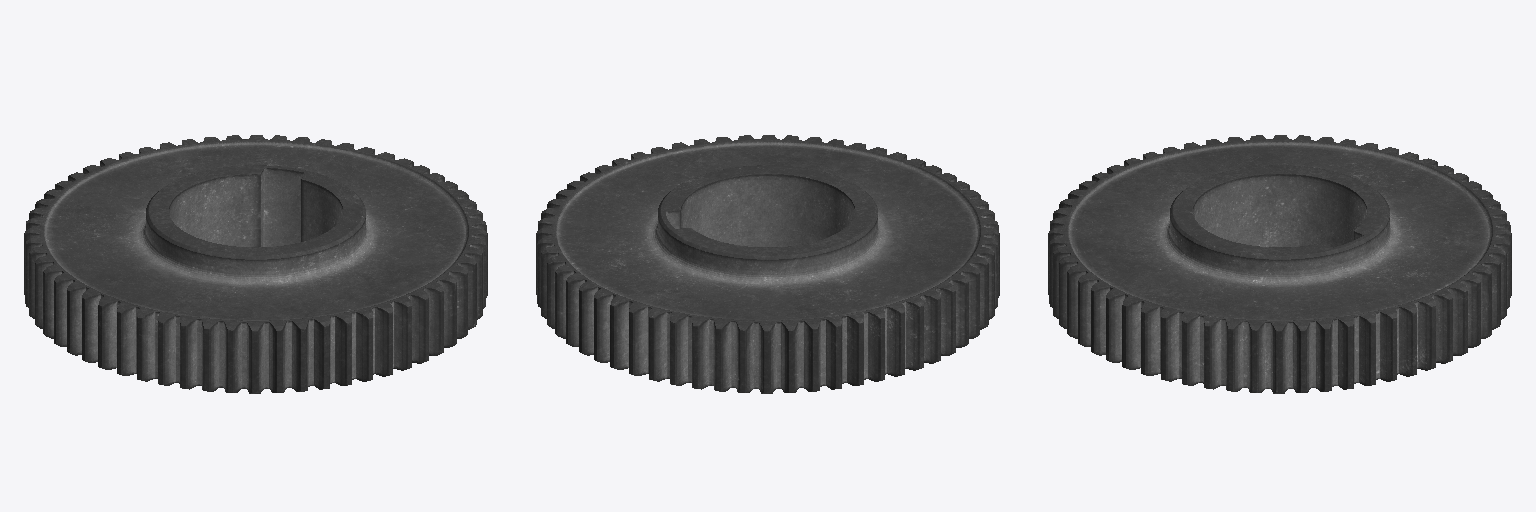
The picture shows the model from 3 angles: view 1: azimuth 30°, elevation 25°; view 2: azimuth 150°, elevation 25°; view 3: azimuth 270°, elevation 25°; orthographic projection.
Parts seen in each view (by area): view 1: Gear2; view 2: Gear2; view 3: Gear2.
Boxes of the visible parts, <box> form: Gear2: <box>24,135,487,393</box>; Gear2: <box>536,135,999,393</box>; Gear2: <box>1048,135,1511,393</box>.
Bounding box in the file's own units: 18.14 × 3.93 × 18.14.
1 materials, 1 textured.